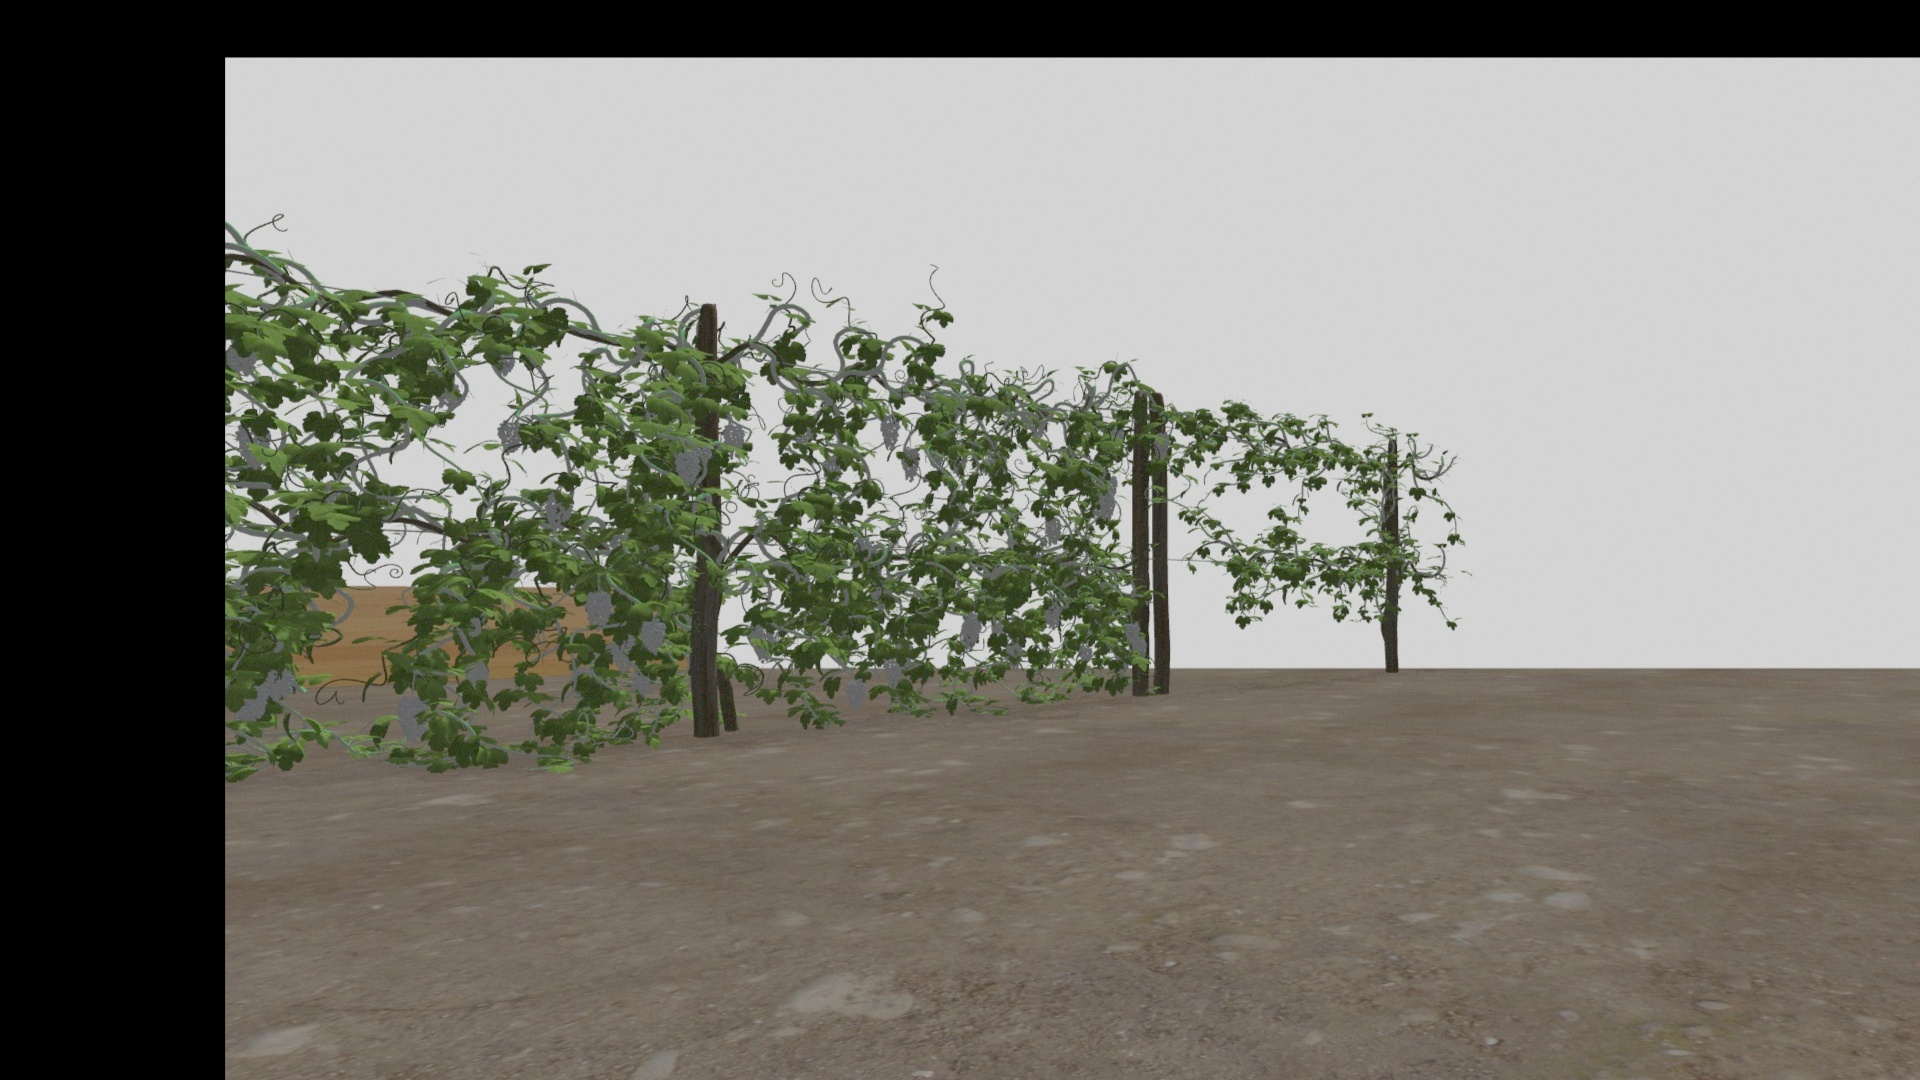grape: (394, 694, 429, 741), (235, 425, 269, 471), (237, 680, 272, 725), (583, 588, 613, 630), (542, 493, 575, 531), (1093, 477, 1120, 520), (609, 632, 636, 674), (640, 616, 666, 655), (266, 665, 293, 703), (229, 342, 256, 376), (496, 418, 521, 454), (463, 655, 489, 688), (880, 413, 902, 450), (959, 613, 982, 647), (679, 448, 700, 485), (899, 447, 920, 481), (843, 679, 866, 709), (723, 422, 745, 454), (882, 657, 903, 688), (1151, 433, 1171, 464), (1042, 603, 1062, 629), (1044, 516, 1062, 545), (1131, 636, 1147, 659), (1124, 621, 1141, 641), (1076, 645, 1093, 661)
